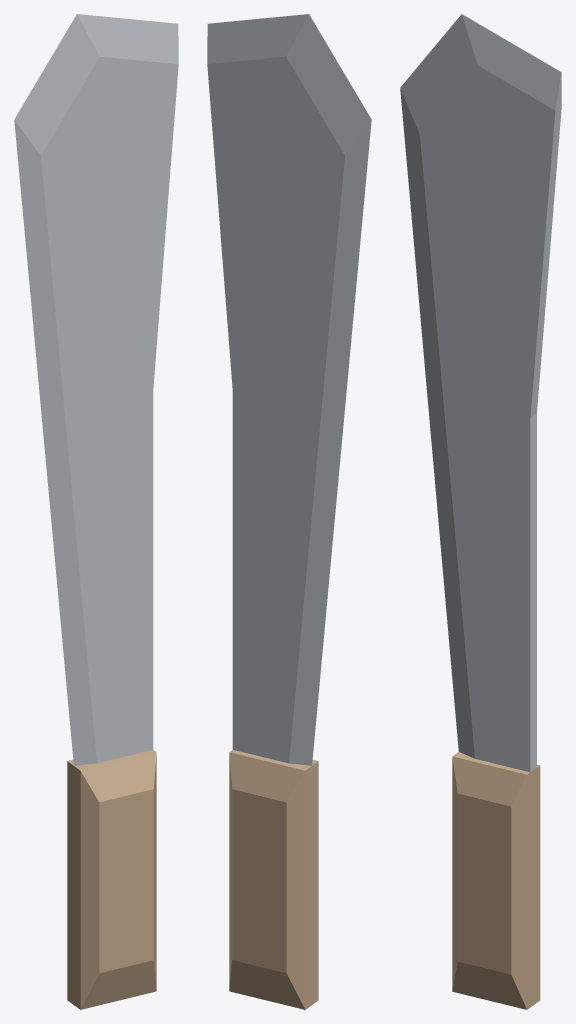
Rendered from Machete.fbx.
3 renders of one model, left to right at view 1: azimuth 30°, elevation 25°; view 2: azimuth 150°, elevation 25°; view 3: azimuth 330°, elevation 25°, orthographic.
Parts seen in each view (by area): view 1: Machete; view 2: Machete; view 3: Machete.
Boxes of the visible parts, <box> form: Machete: <box>14,14,178,1009</box>; Machete: <box>207,14,371,1009</box>; Machete: <box>400,14,561,1009</box>.
Bounding box in the file's own units: 0.0905 × 0.5216 × 0.0252.
